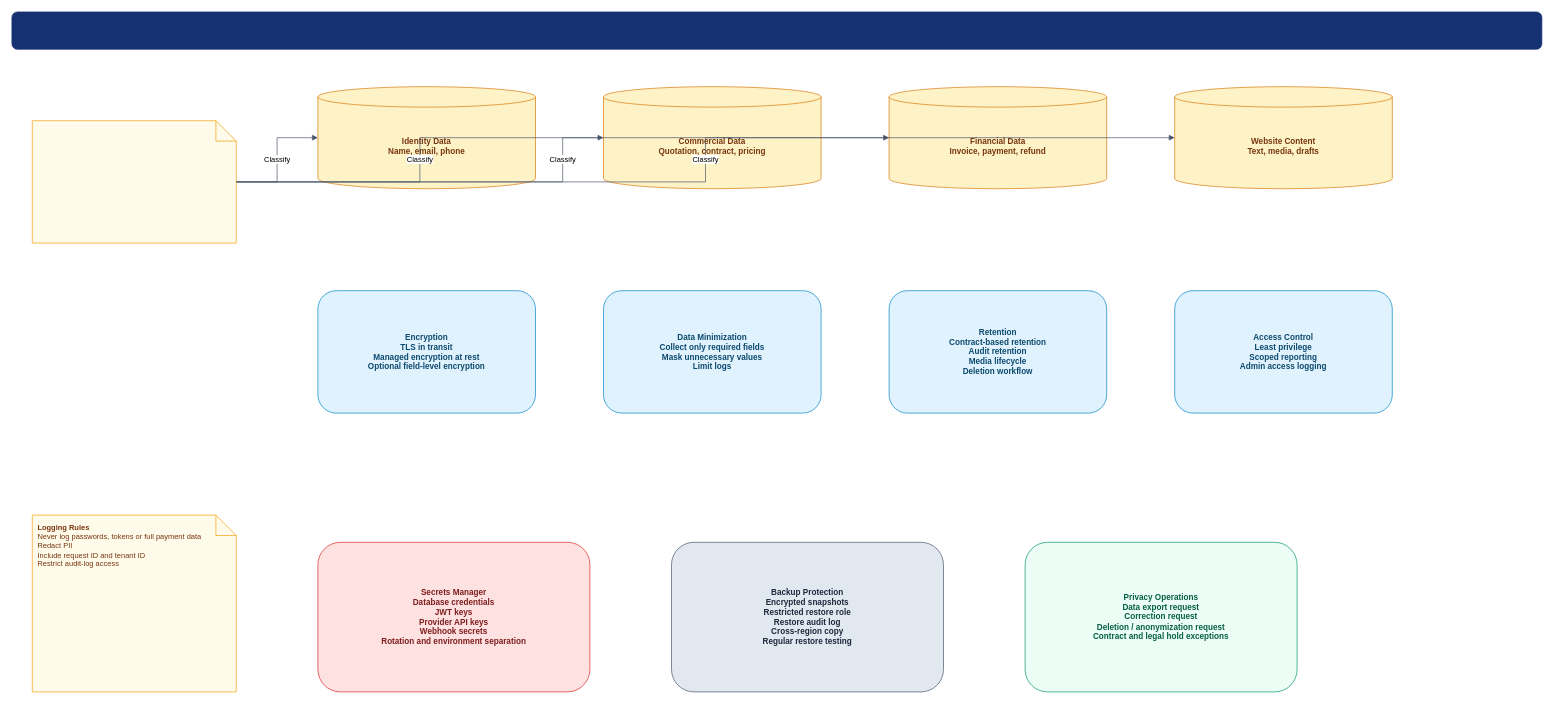
This 1554x704 diagram has some shape labels left out. The box of each missing label's shape, as (x1, y1, x2, y2) in pixels:
Data Classification Public Internal Confidential Restricted: (32, 120, 236, 243)
Data Protection, Privacy and Secrets Management: (11, 11, 1542, 49)
